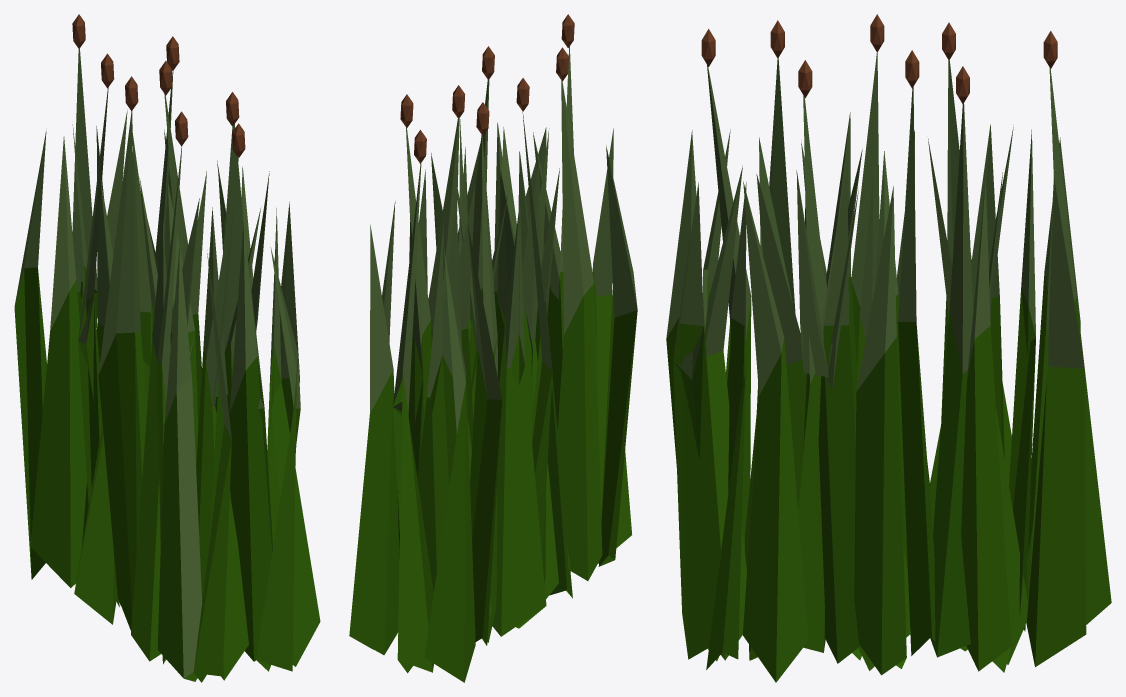
File: Reeds.fbx
3 views of the same model, side by side, from view 1: azimuth 30°, elevation 25°; view 2: azimuth 150°, elevation 25°; view 3: azimuth 270°, elevation 25° (orthographic). The views are drawn at different scales.
Visible parts, largest first — view 1: Cube; view 2: Cube; view 3: Cube.
Boxes of the visible parts, x1=… form: Cube: x1=14, y1=14, x2=320, y2=682; Cube: x1=349, y1=14, x2=637, y2=682; Cube: x1=666, y1=14, x2=1111, y2=682.
Size of the model in its own units: 371 by 1235 by 808.
